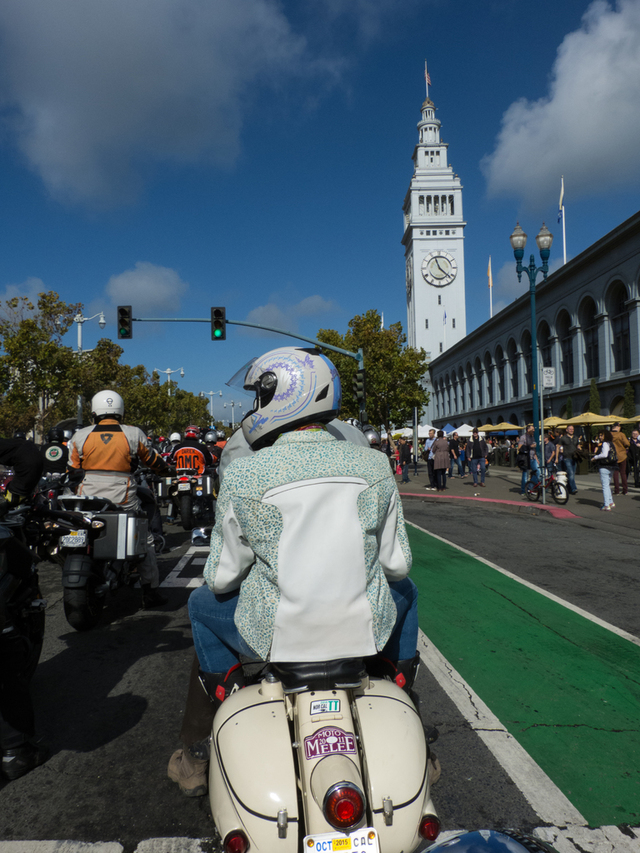helmet: (225, 344, 356, 430), (85, 385, 135, 417)
